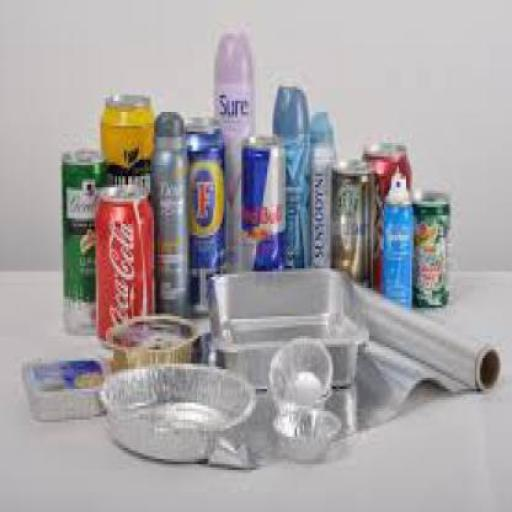metal: (169, 338, 482, 440), (202, 268, 368, 386), (344, 286, 498, 392), (97, 360, 254, 462), (60, 148, 111, 336), (95, 185, 154, 336), (185, 115, 225, 311), (362, 140, 412, 288), (213, 82, 252, 268), (150, 137, 187, 311), (20, 355, 114, 417), (100, 89, 156, 190), (242, 134, 284, 266), (104, 314, 199, 372), (332, 159, 374, 285), (267, 333, 330, 405), (412, 190, 448, 308), (269, 406, 341, 462), (380, 193, 410, 299), (284, 137, 308, 263), (308, 143, 332, 263)
